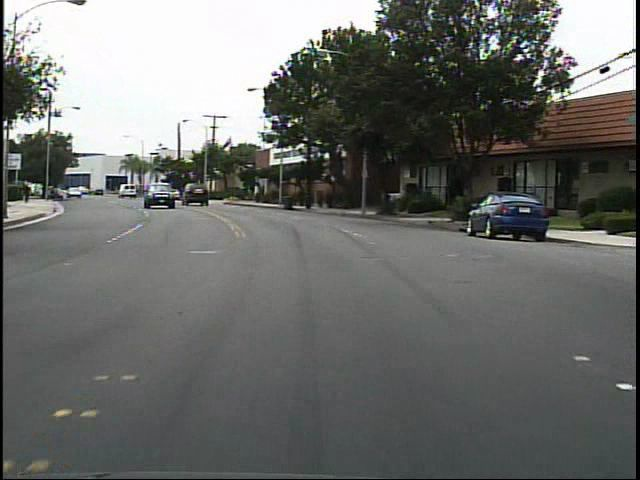person: (22, 182, 32, 205)
